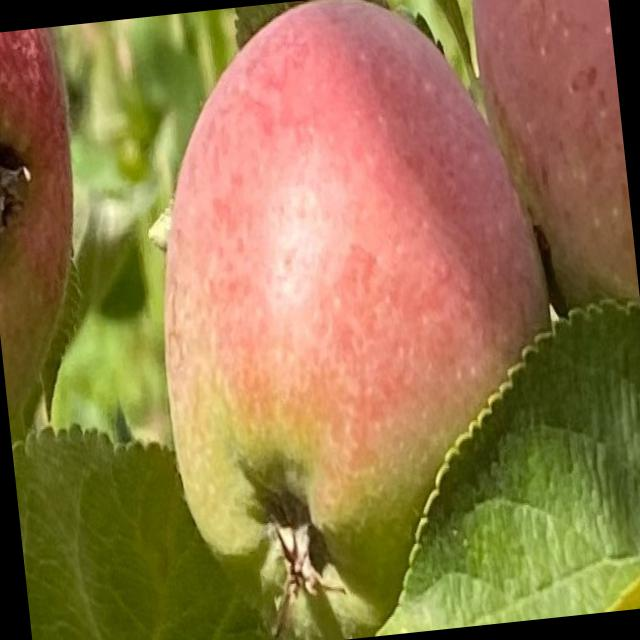Apples: (128, 0, 582, 639), (468, 0, 639, 320), (0, 25, 102, 423)
